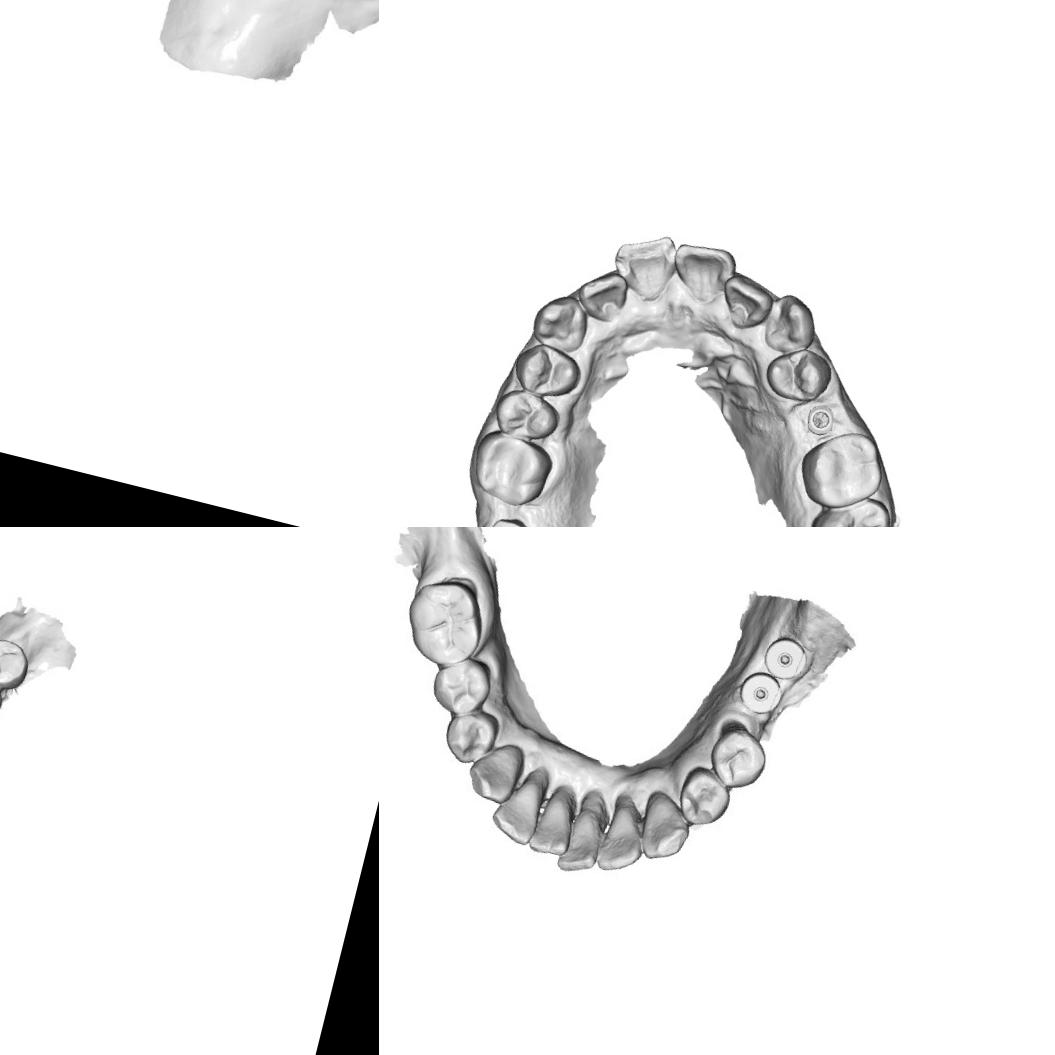canine: (756, 288, 824, 362), (636, 789, 698, 868), (525, 286, 594, 356), (462, 734, 526, 808)
implant: (758, 630, 811, 681), (737, 670, 784, 714), (800, 397, 843, 441), (483, 511, 533, 527)
incisor: (604, 221, 682, 308), (487, 756, 550, 850), (662, 236, 740, 309), (592, 800, 653, 880), (551, 802, 608, 881), (714, 269, 776, 335), (570, 262, 632, 326), (528, 782, 578, 858)
molar: (790, 420, 892, 520), (396, 571, 490, 672), (463, 426, 558, 514), (798, 482, 899, 527)
premolar: (759, 339, 838, 409), (700, 716, 770, 795), (506, 336, 586, 405), (423, 648, 496, 722), (486, 381, 564, 448), (670, 762, 736, 832), (436, 702, 500, 771), (0, 632, 32, 693)
